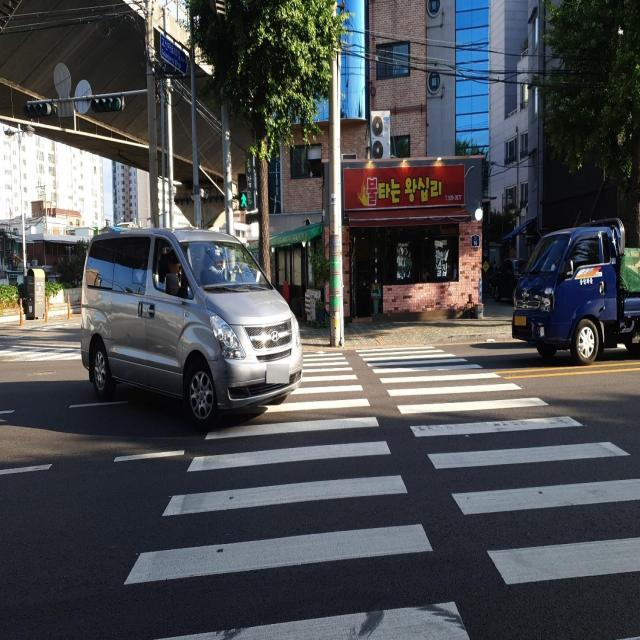초록불: (236, 171, 250, 213)
횡단보도: (124, 354, 640, 640)
